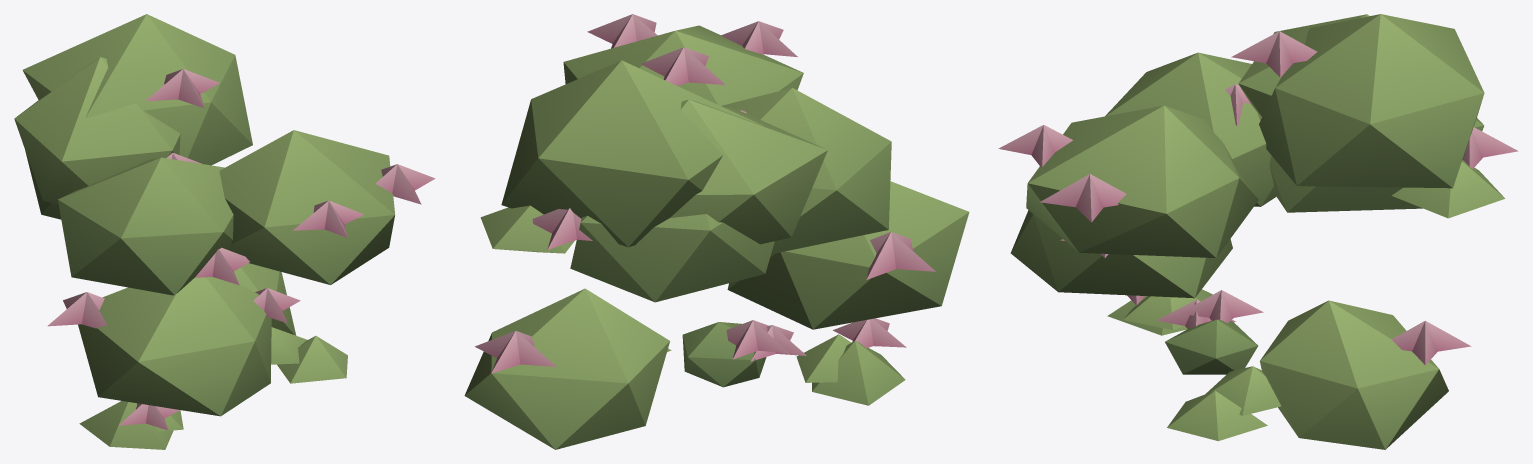
File: env_bush_flowering_01.glb
The picture shows the model from 3 angles, left to right: view 1: azimuth 30°, elevation 25°; view 2: azimuth 150°, elevation 25°; view 3: azimuth 270°, elevation 25°; orthographic projection. The views are drawn at different scales.
Parts seen in each view (by area): view 1: bush_flowering_01; view 2: bush_flowering_01; view 3: bush_flowering_01.
Part boxes in pixels (x1,y1,x2,y2): bush_flowering_01: (14, 14, 435, 449); bush_flowering_01: (464, 14, 969, 449); bush_flowering_01: (998, 14, 1518, 449).
Bounding box in the file's own units: 0.3439 × 0.3201 × 0.4002.
